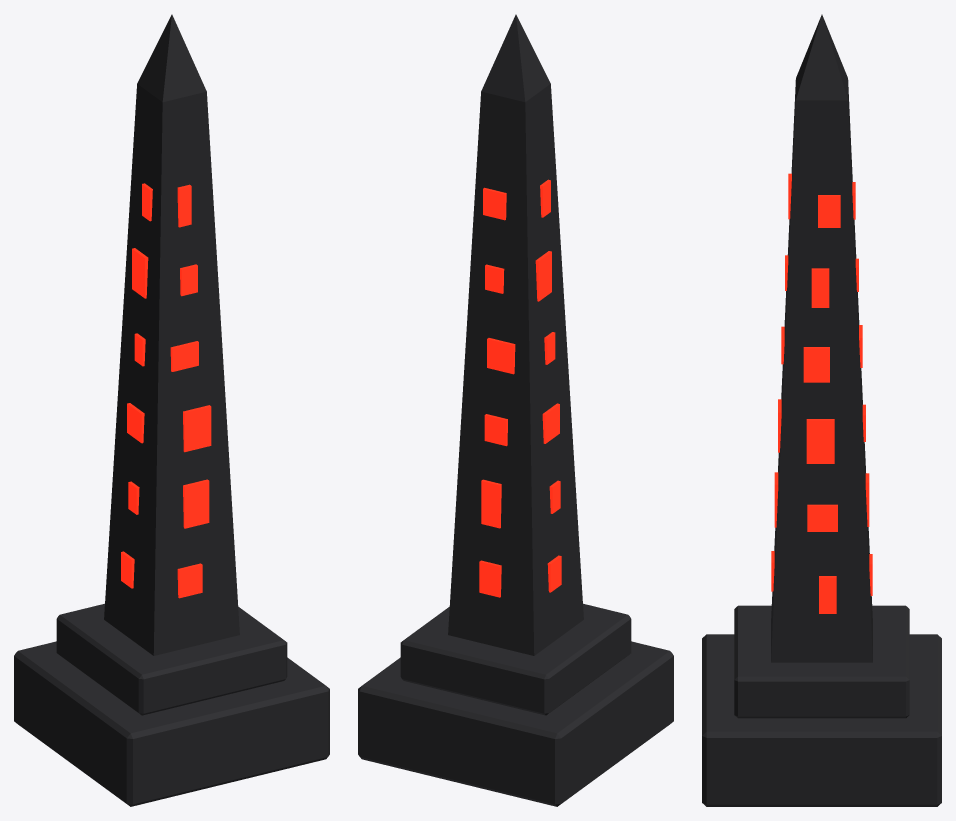
Rendered from obelisco_runa.fbx.
3 renders of one model, left to right at view 1: azimuth 30°, elevation 25°; view 2: azimuth 150°, elevation 25°; view 3: azimuth 270°, elevation 25°, orthographic. The views are drawn at different scales.
Visible parts, largest first — view 1: obelisco_runa; view 2: obelisco_runa; view 3: obelisco_runa.
Boxes of the visible parts, bbox=[...] form: obelisco_runa: bbox=[14, 14, 329, 806]; obelisco_runa: bbox=[358, 14, 673, 806]; obelisco_runa: bbox=[702, 14, 941, 806].
Bounding box in the file's own units: 2.6 × 8.9 × 2.6.
